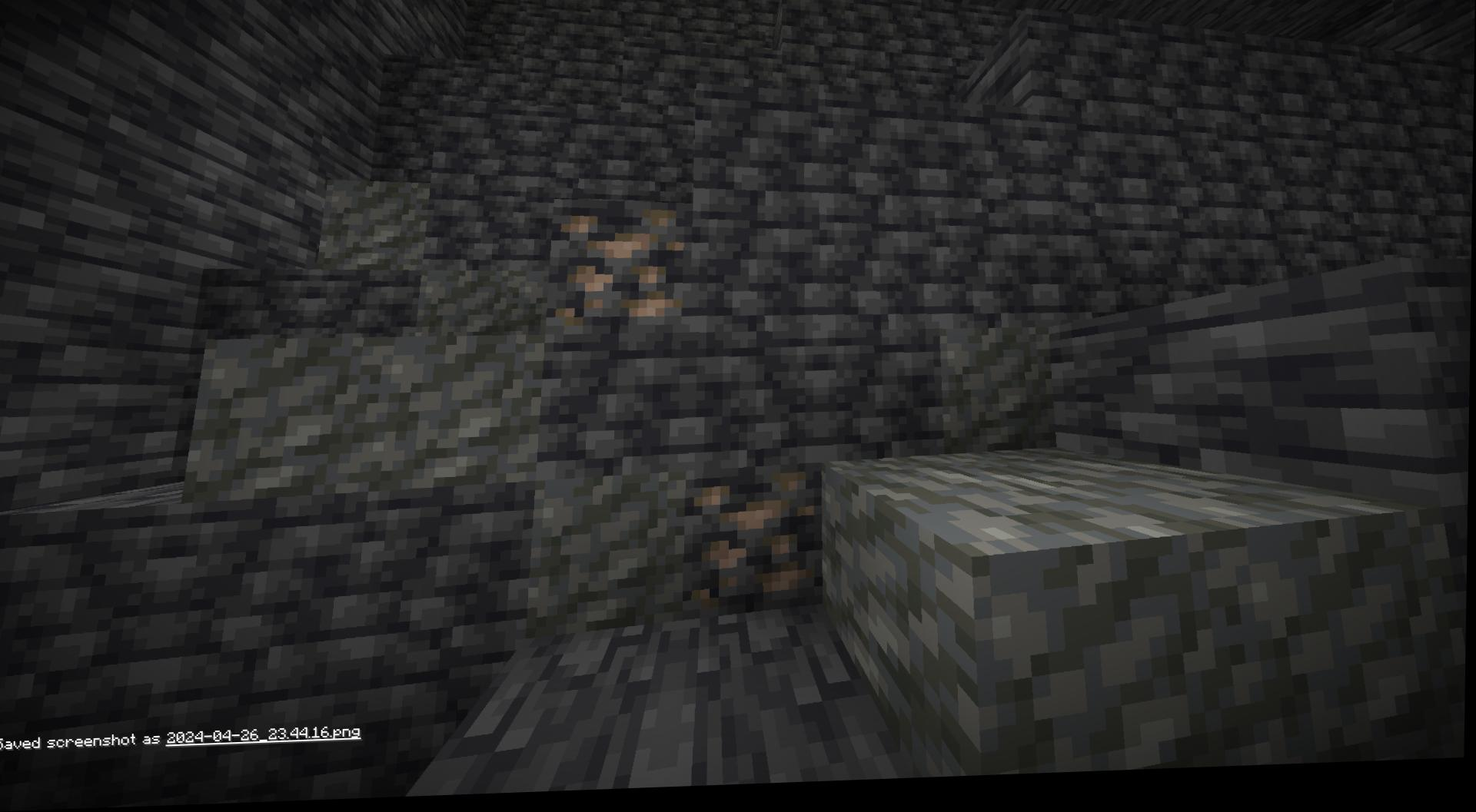iron ore: (696, 479, 813, 609), (554, 208, 680, 327)
